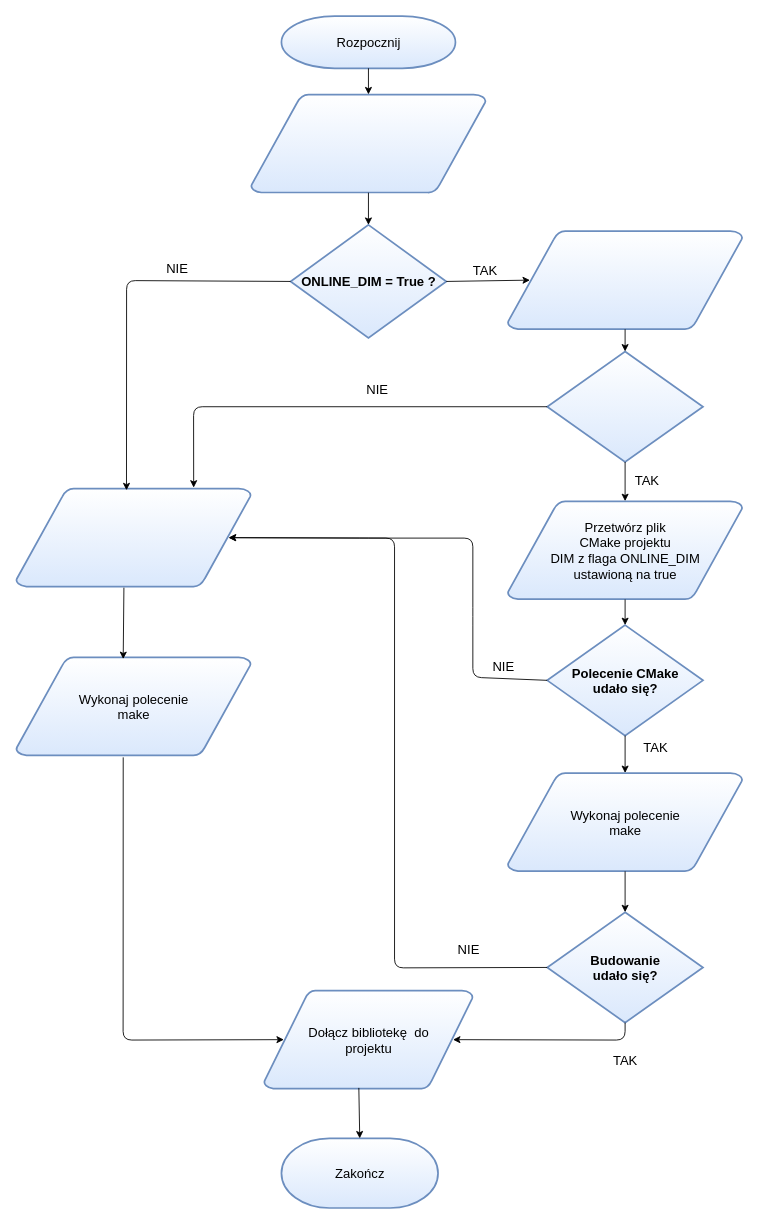
Image size: 758x1223. Some labels were removed from this diagram. The shapes that lost their labels are listed below. From the top down, each one's centre as x and y in pixels, then its label:
At (x=368, y=143): "Stwórz katalog na produkty procesu budowania".
At (x=624, y=280): "Pobierz nową wersję biblioteki".
At (x=624, y=406): "Pobieranie udało się?".
At (x=133, y=537): "Przetwórz plik CMake projektu DIM z flaga ONLINE_DIM ustawioną na false".
